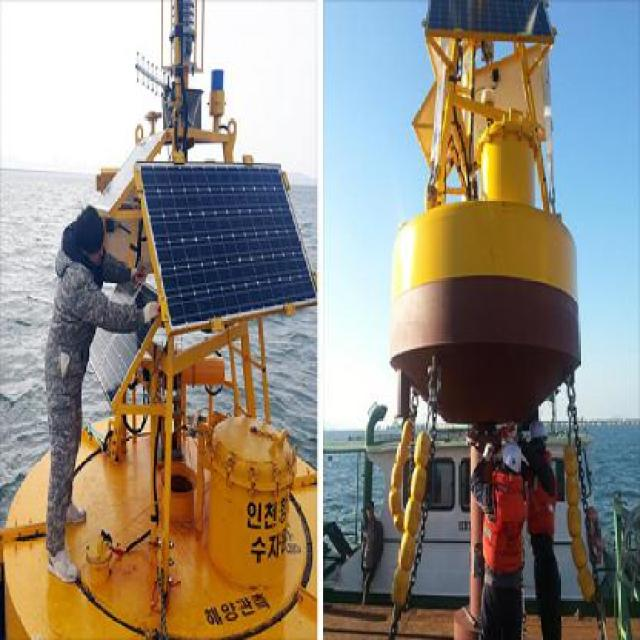buoy: (392, 1, 592, 379)
